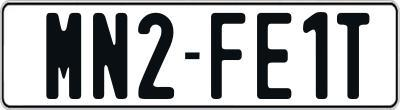1: (303, 9, 332, 102)
2: (136, 13, 177, 102)
E: (256, 10, 295, 102)
F: (210, 10, 244, 96)
M: (44, 12, 83, 103)
N: (90, 13, 126, 105)
T: (337, 10, 371, 100)
